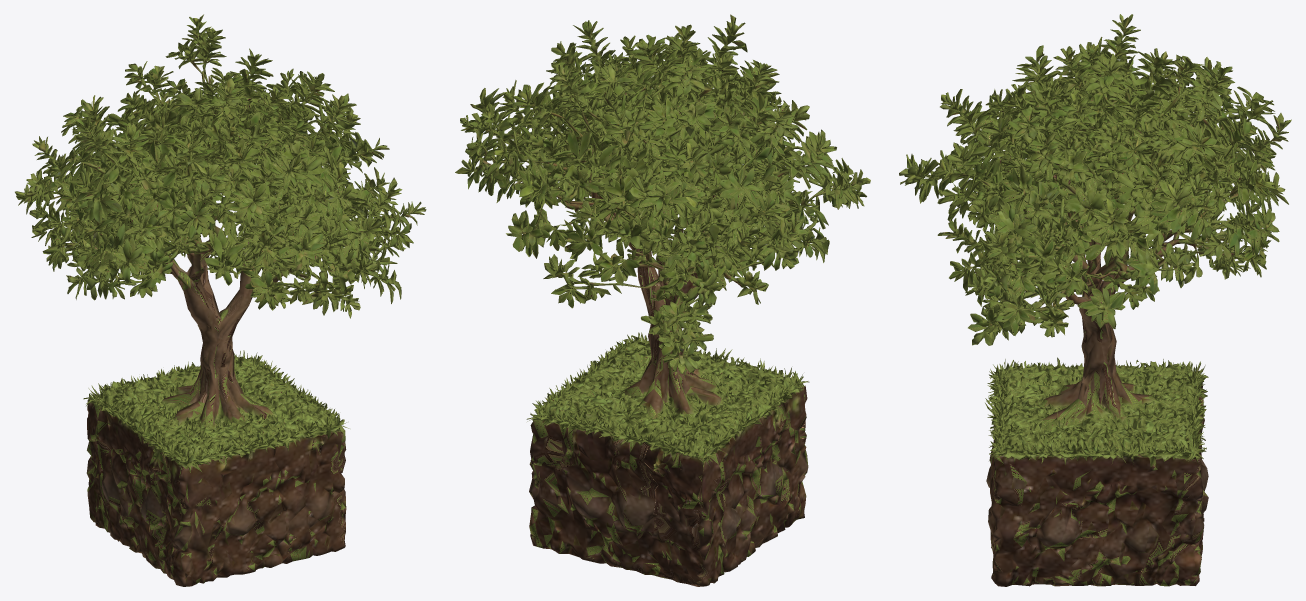
The model's file is arvore-jardim.glb.
3 renders of one model, left to right at view 1: azimuth 30°, elevation 25°; view 2: azimuth 150°, elevation 25°; view 3: azimuth 270°, elevation 25°, orthographic. The views are drawn at different scales.
Bounding box in the file's own units: 1.38 × 1.88 × 1.34.
Materials: 1 (1 with a texture image).
